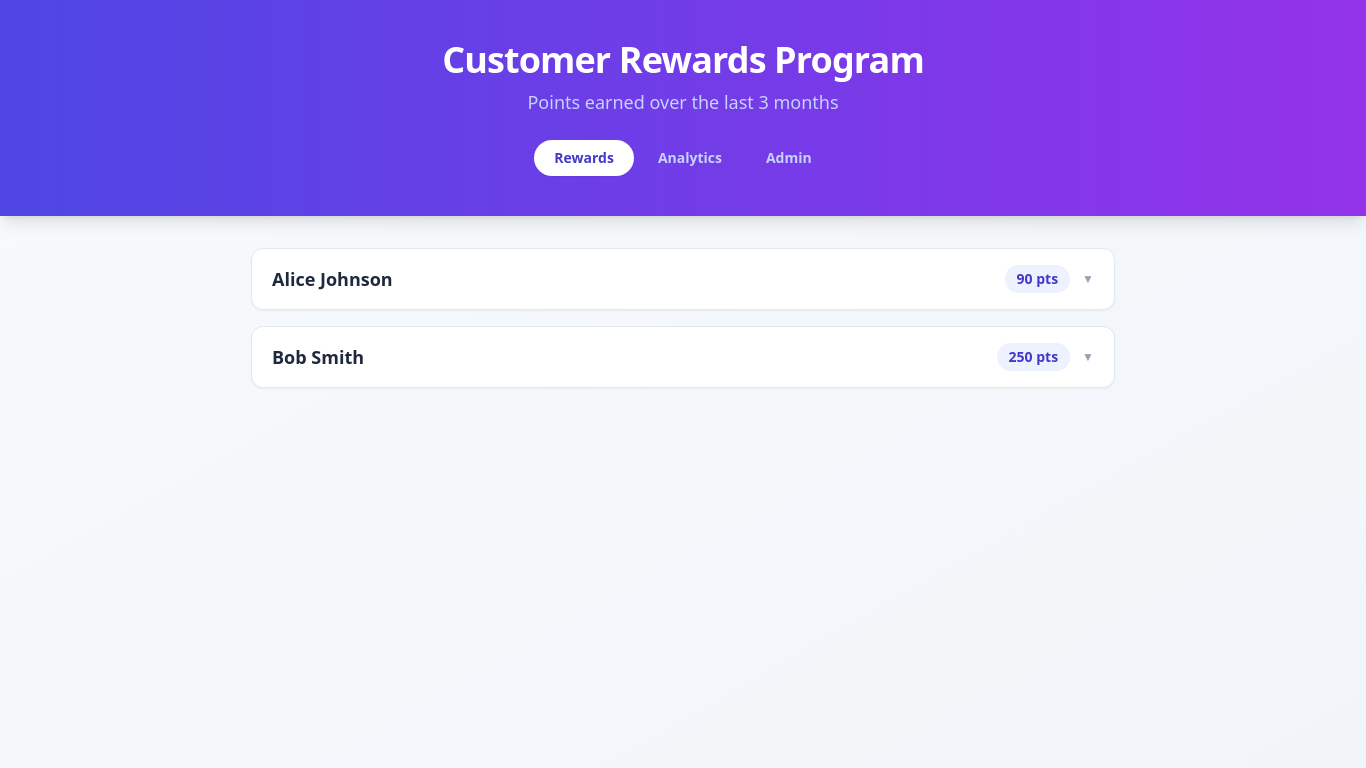
Test: App › switches to Admin view when Admin tab is clicked
Click the tab "Admin" at (789, 158), box [746,140,832,176]
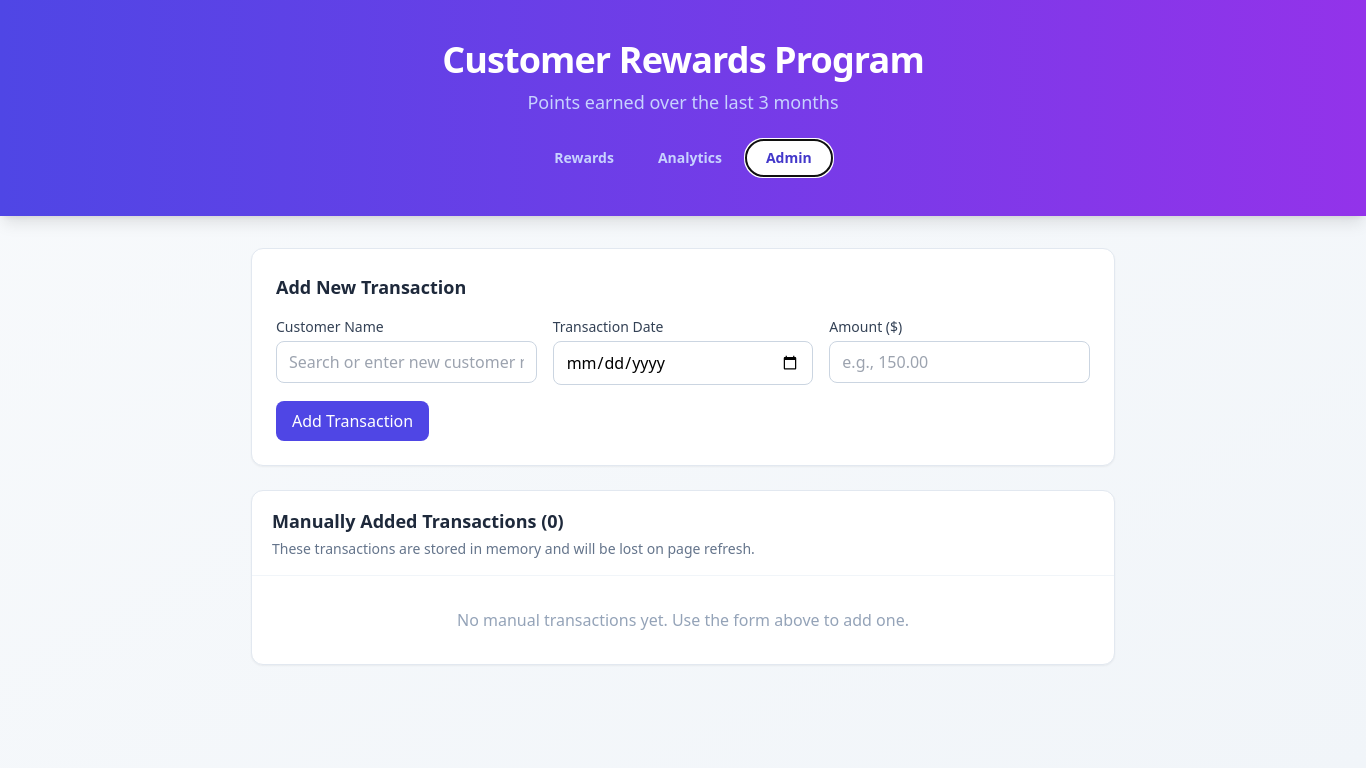
Expected: the heading "Add New Transaction" is shown, [276,275,466,299]
Expected: the dropdown labelled "Customer Name" is shown, [276,341,537,383]
